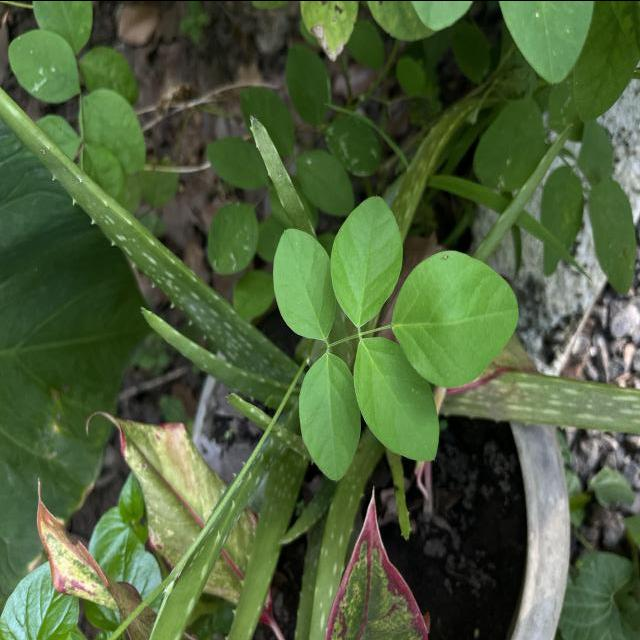Clitoria ternatea: (390, 247, 520, 389), (351, 334, 441, 462), (329, 194, 404, 328), (297, 352, 362, 482), (272, 226, 337, 340)
